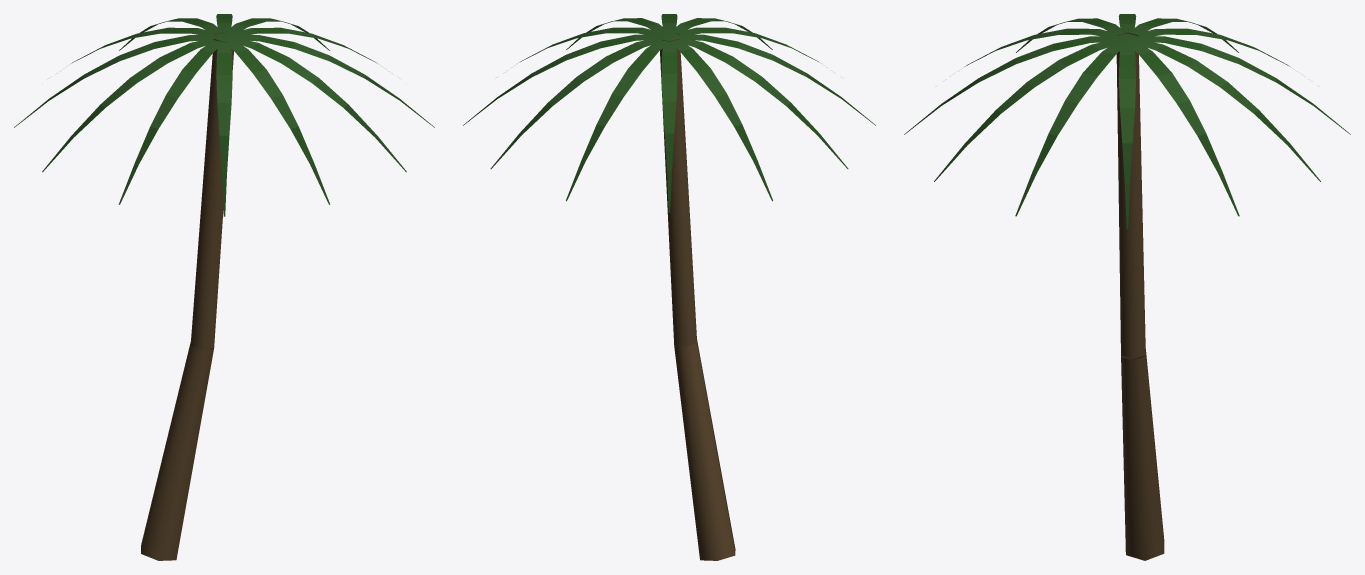
Rendered from ambient_tree_25.glb.
3 views of the same model, side by side, from view 1: azimuth 30°, elevation 25°; view 2: azimuth 150°, elevation 25°; view 3: azimuth 270°, elevation 25° (orthographic). The views are drawn at different scales.
Visible parts, largest first — view 1: ambient_tree_25; view 2: ambient_tree_25; view 3: ambient_tree_25.
Boxes of the visible parts, <box> form: ambient_tree_25: <box>14,14,434,560</box>; ambient_tree_25: <box>463,14,875,560</box>; ambient_tree_25: <box>904,14,1350,560</box>.
Bounding box in the file's own units: 7.6 × 10.21 × 7.6.
Materials: 2 (2 with a texture image).
